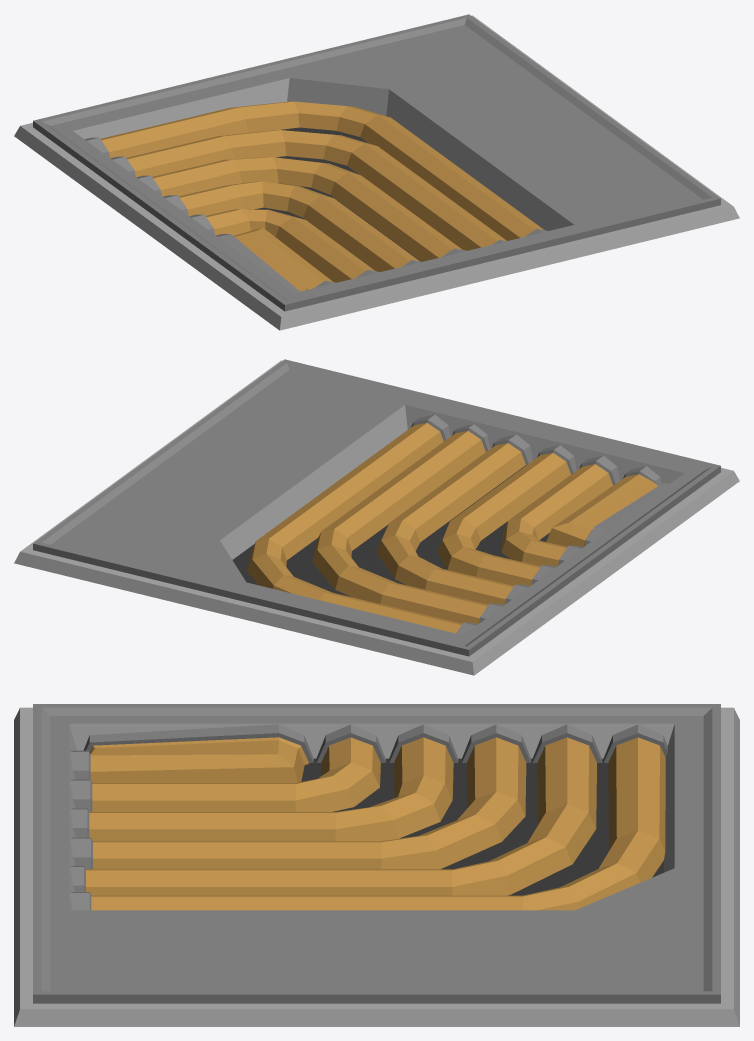
Rendered from rooftile_innercorner_pipes_lev3.glb.
3 renders of one model, top to bottom at view 1: azimuth 30°, elevation 25°; view 2: azimuth 150°, elevation 25°; view 3: azimuth 270°, elevation 25°, orthographic. The views are drawn at different scales.
Parts seen in each view (by area): view 1: rooftile_innercorner_pipes_lev3; view 2: rooftile_innercorner_pipes_lev3; view 3: rooftile_innercorner_pipes_lev3.
Part boxes in pixels (left/top/right/bottom): rooftile_innercorner_pipes_lev3: left=14, top=14, right=739, bottom=330; rooftile_innercorner_pipes_lev3: left=14, top=359, right=739, bottom=675; rooftile_innercorner_pipes_lev3: left=14, top=704, right=739, bottom=1026.
Bounding box in the file's own units: 2 × 0.1147 × 2.
